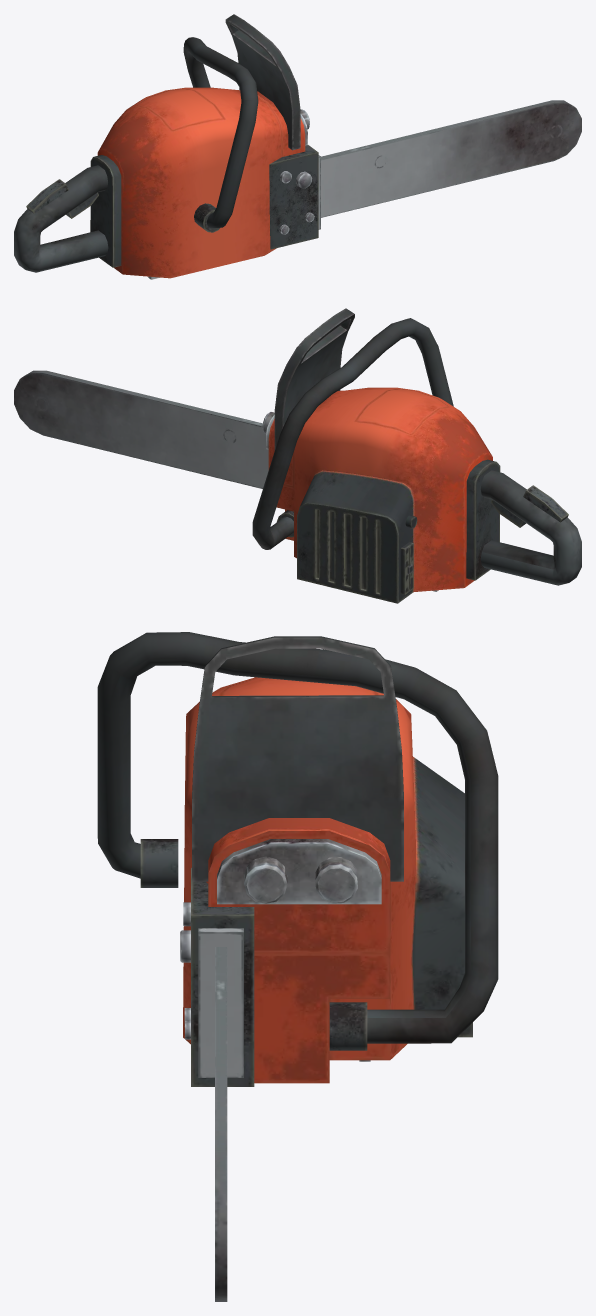
File: chainsaw-eYLGkG2l.glb
3 renders of one model, top to bottom at view 1: azimuth 30°, elevation 25°; view 2: azimuth 150°, elevation 25°; view 3: azimuth 270°, elevation 25°, orthographic. The views are drawn at different scales.
Visible parts, largest first — view 1: Chainsaw_Chainsaw; view 2: Chainsaw_Chainsaw; view 3: Chainsaw_Chainsaw.
Boxes of the visible parts, x1,y1,x2,y2 form: Chainsaw_Chainsaw: (14,14,581,279); Chainsaw_Chainsaw: (14,308,581,603); Chainsaw_Chainsaw: (97,632,498,1301).
Bounding box in the file's own units: 1.5 × 0.5576 × 0.4777.
1 material, 1 textured.
